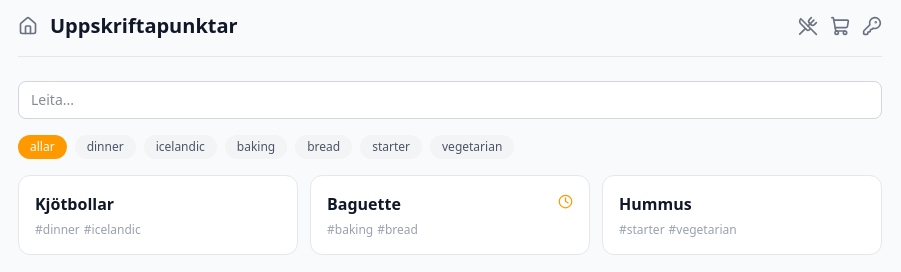
Scenario: Home page › filters recipes by ingredient search
Check: the text "Kjötbollar" is shown, box [35, 192, 114, 216]
Type "chickpeas" into the search field with placeholder "Leita..." at (450, 100), box [18, 81, 882, 119]
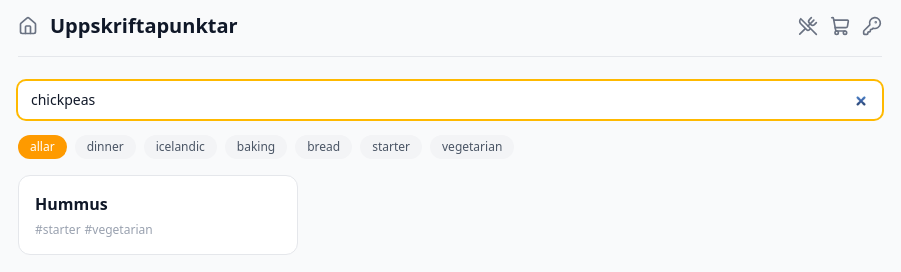
Check: the text "Hummus" is shown, box [35, 192, 108, 216]
Check: the link "Kjötbollar" is gone
